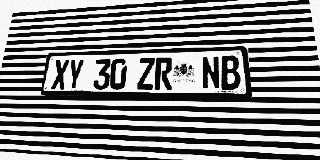0: (109, 58, 127, 90)
3: (93, 59, 111, 89)
B: (220, 55, 241, 90)
N: (201, 56, 221, 90)
R: (155, 57, 172, 90)
X: (51, 60, 69, 89)
Y: (66, 60, 84, 89)
Z: (137, 58, 155, 90)
